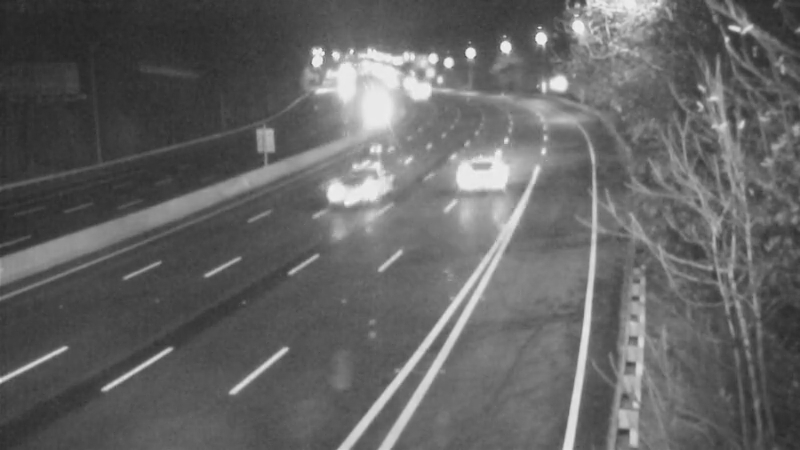vehicle: (449, 131, 529, 211), (315, 153, 395, 233), (393, 68, 443, 118), (347, 77, 397, 127)
